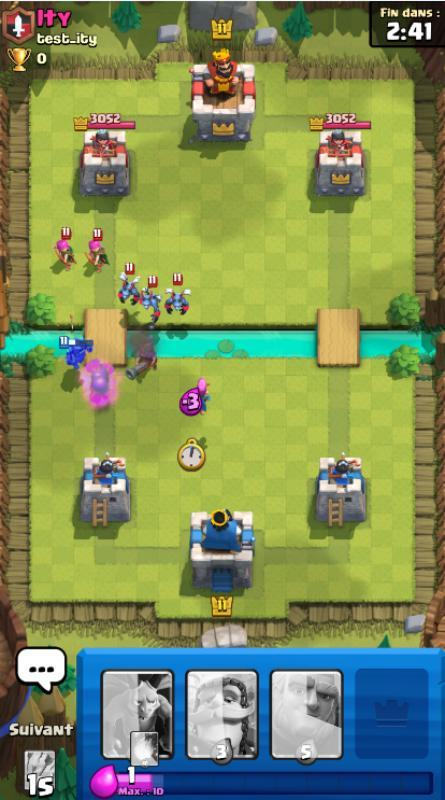archere: (83, 227, 110, 273), (54, 227, 79, 274), (196, 377, 212, 417)
gargouille: (164, 272, 192, 316), (115, 262, 141, 306), (138, 275, 161, 324)
mini_PEKKA: (58, 335, 95, 370)
mousquetaire: (125, 338, 158, 381)
